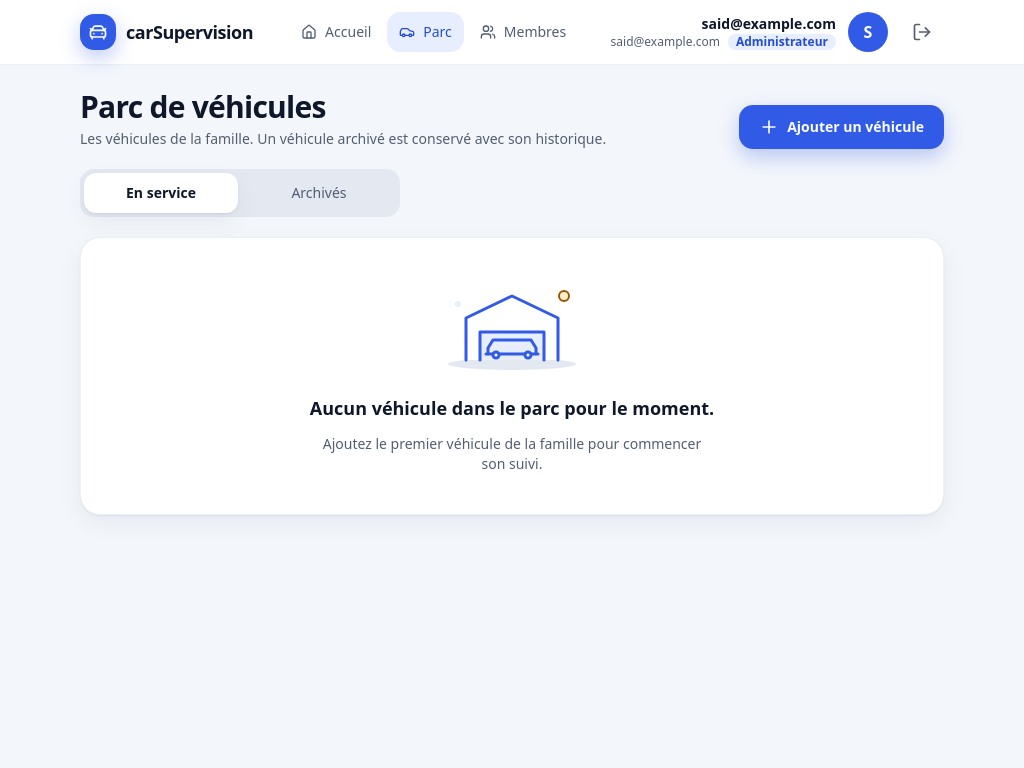
Scenario: parc de véhicules › liste les archivés et réactive un véhicule
Check: the text "Aucun véhicule dans le parc pour le moment." is shown, box left=310, top=394, right=714, bottom=422
What coordinates should you click on to do the following:
click the tab "Archivés"
I would click on:
 (319, 193)
Its box is left=242, top=173, right=396, bottom=213.
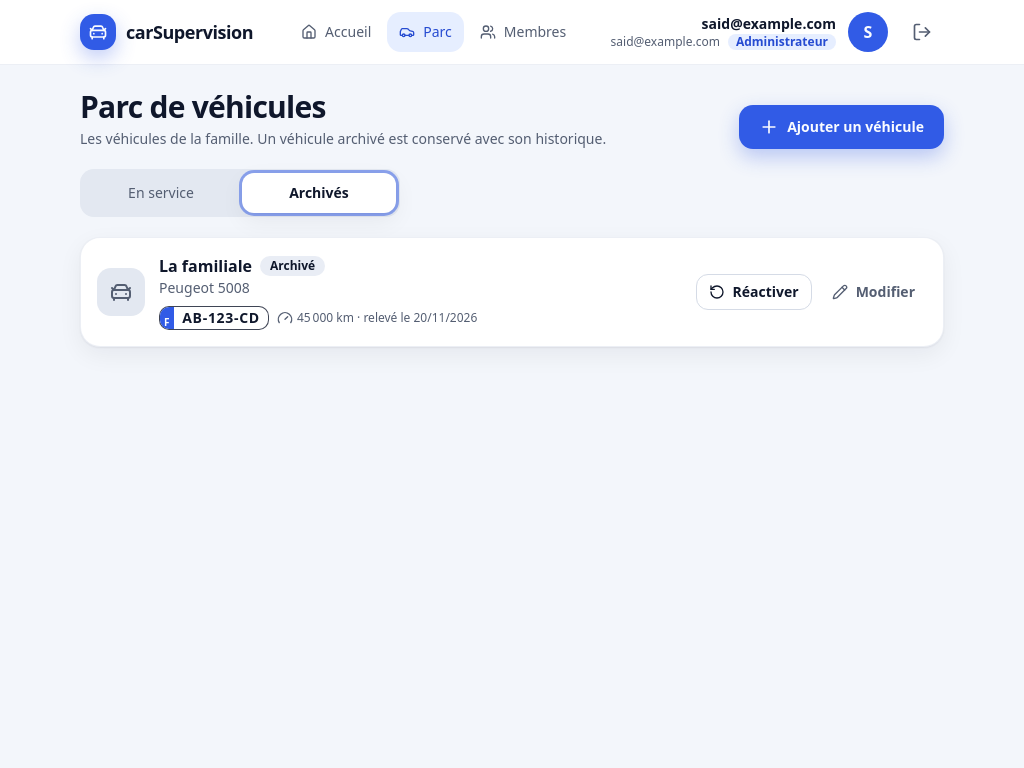
What coordinates should you click on to do the following:
click the button with aria-label "Réactiver La familiale"
I would click on:
 (754, 292)
Its box is left=696, top=274, right=812, bottom=310.
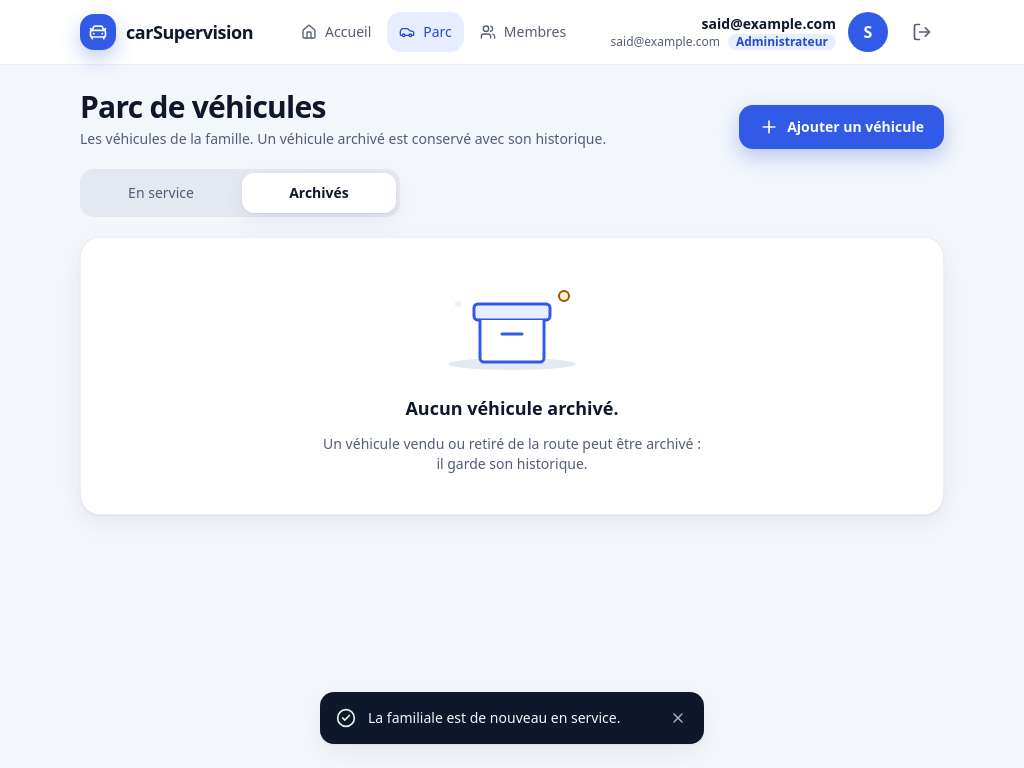
Check: the text "La familiale est de nouveau en service." is shown, box left=368, top=708, right=648, bottom=728
Check: the text "Aucun véhicule archivé." is shown, box left=405, top=394, right=619, bottom=422
